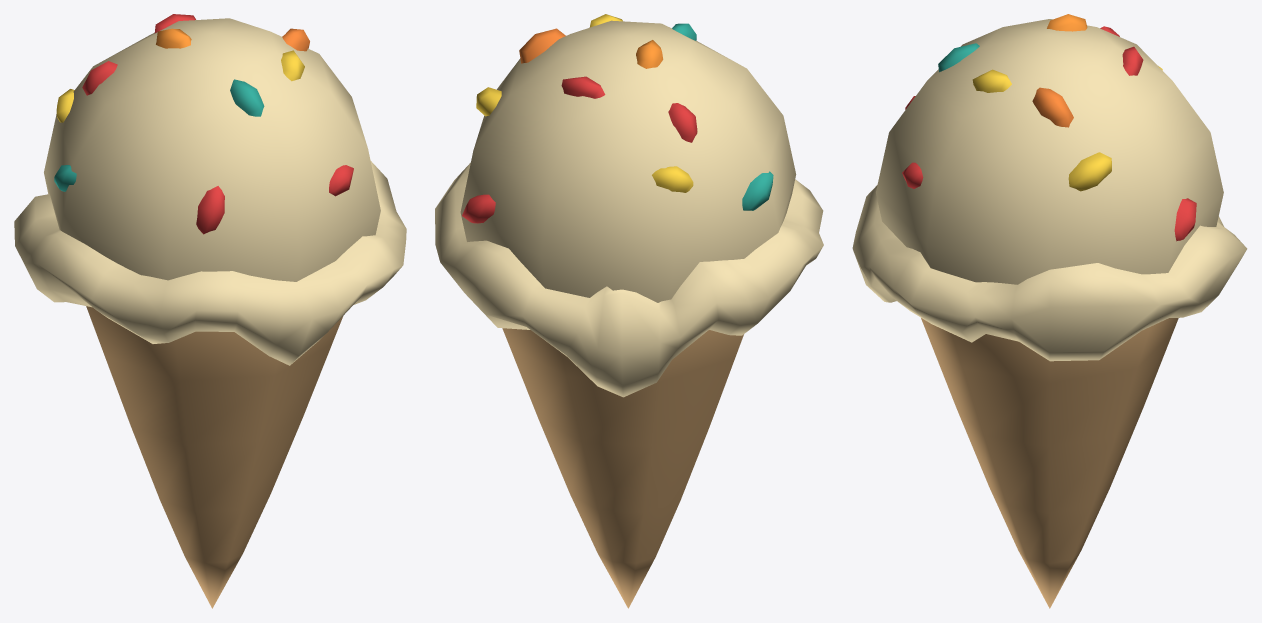
Rendered from HandAcc_5.fbx.
3 views of the same model, side by side, from view 1: azimuth 30°, elevation 25°; view 2: azimuth 150°, elevation 25°; view 3: azimuth 270°, elevation 25° (orthographic).
Visible parts, largest first — view 1: HandAcc_5; view 2: HandAcc_5; view 3: HandAcc_5.
Boxes of the visible parts, x1,y1,x2,y2 form: HandAcc_5: [14, 14, 406, 608]; HandAcc_5: [435, 14, 823, 608]; HandAcc_5: [852, 14, 1247, 608].
Size of the model in its own units: 23.19 by 36.76 by 22.71.
